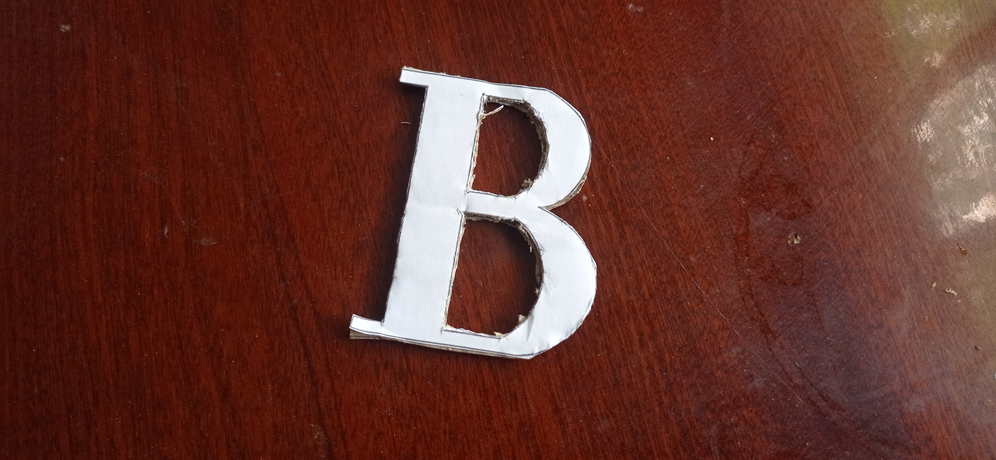v: (344, 65, 598, 363)
